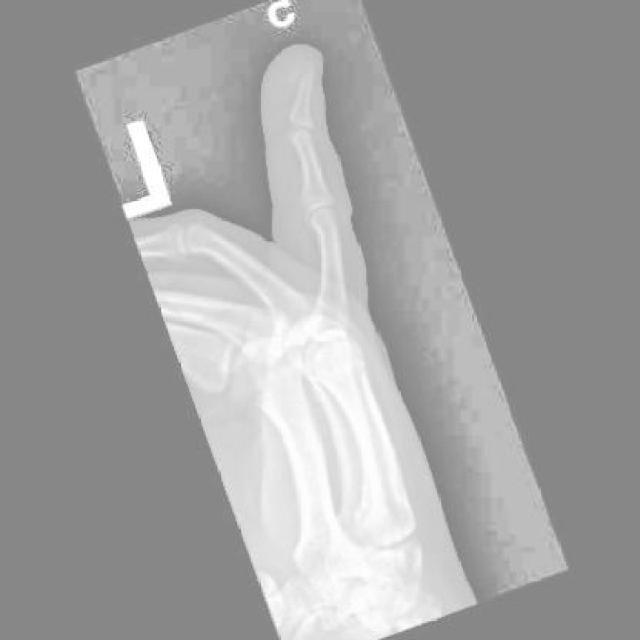Fracture: (274, 46, 322, 97)
